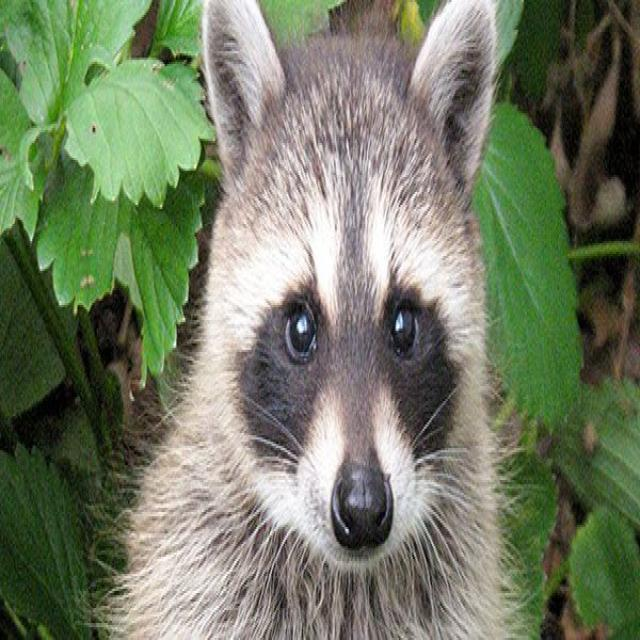Raccoon: (136, 0, 505, 640)
